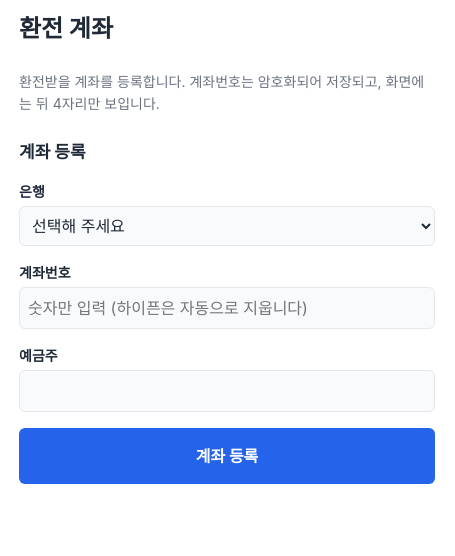
환전 계좌 화면 (#30 AC4) › should show why the account was refused
The width and height of the screenshot is (455, 556).
Step 1. Select "신한은행" in the dropdown labelled "은행" → x=227, y=226, box [19, 206, 435, 246]
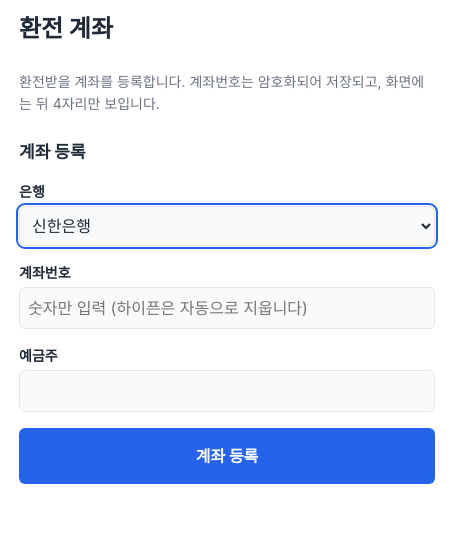
Step 2. Type "110-123-45678" into the field labelled "계좌번호" → x=227, y=308, box [19, 287, 435, 329]
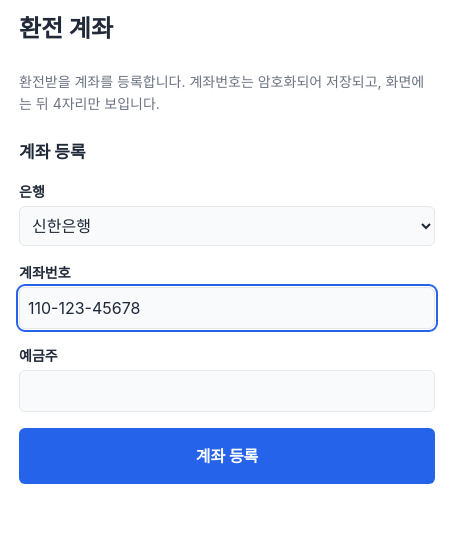
Step 3. Type "김구직" into the field labelled "예금주" → x=227, y=391, box [19, 370, 435, 412]
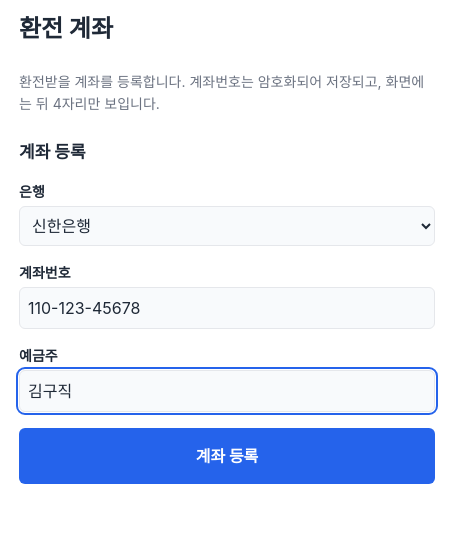
Step 4. Click the button "계좌 등록" → x=227, y=456, box [19, 428, 435, 484]
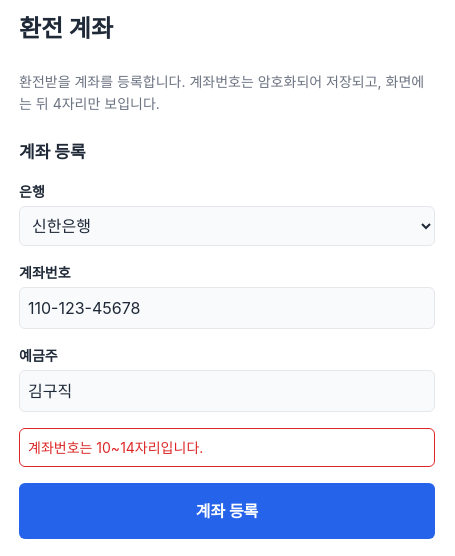
Expected: the message reads "계좌번호는 10~14자리입니다.", [28, 439, 203, 456]
